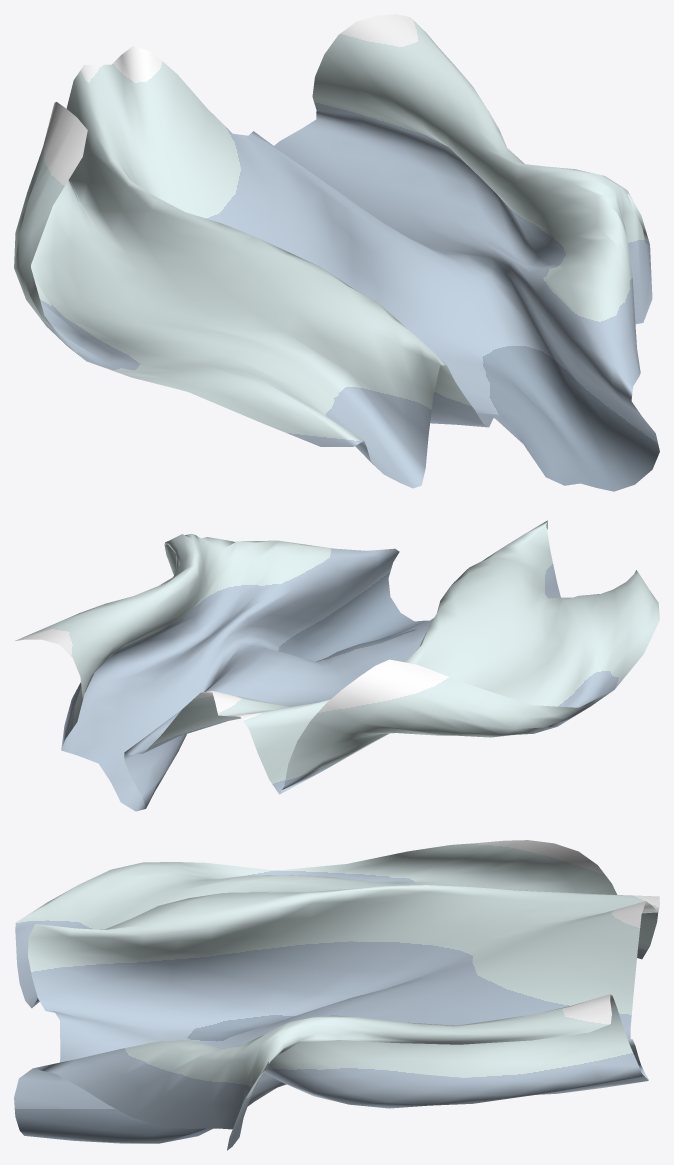
The model's file is papel.fbx.
3 views of the same model, one above another, from view 1: azimuth 30°, elevation 25°; view 2: azimuth 150°, elevation 25°; view 3: azimuth 270°, elevation 25° (orthographic). The views are drawn at different scales.
Parts seen in each view (by area): view 1: papel; view 2: papel; view 3: papel.
Boxes of the visible parts, left/top/right/bottom form: papel: left=14, top=14, right=659, bottom=491; papel: left=15, top=520, right=659, bottom=811; papel: left=14, top=840, right=659, bottom=1150.
Bounding box in the file's own units: 230 × 90.04 × 275.
